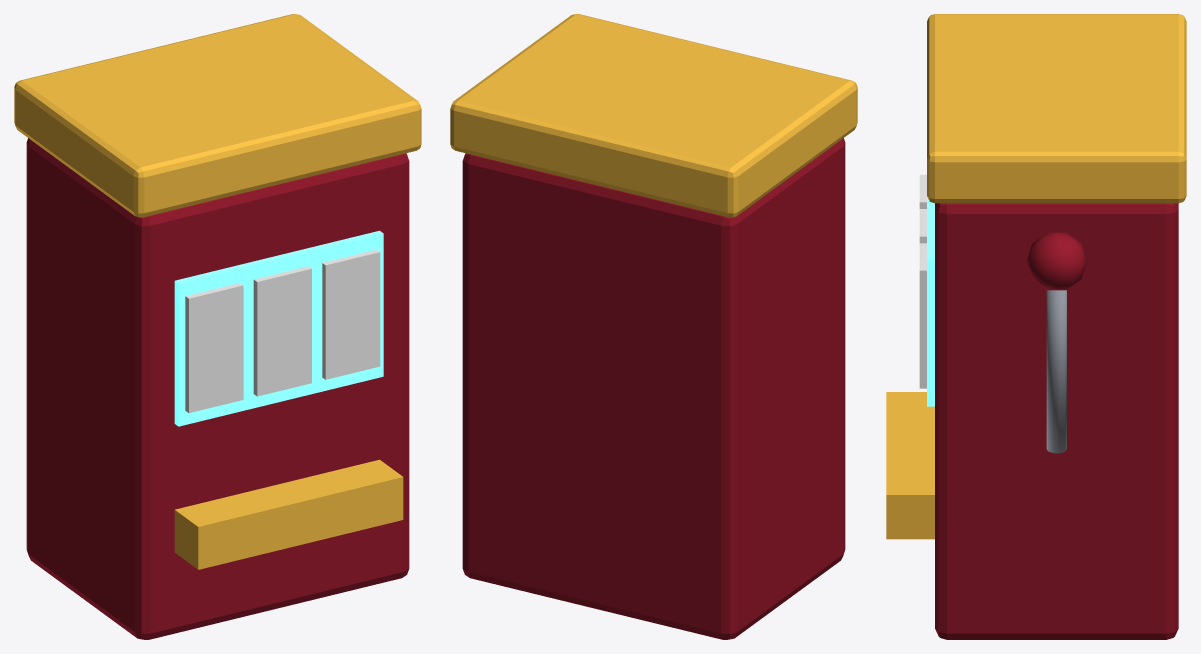
Rendered from SlotMachine.fbx.
3 views of the same model, side by side, from view 1: azimuth 30°, elevation 25°; view 2: azimuth 150°, elevation 25°; view 3: azimuth 270°, elevation 25° (orthographic). The views are drawn at different scales.
Parts seen in each view (by area): view 1: Red_Body, Gold_Top, Gold_Tray, Neon_Screen, White_Reel2, White_Reel0, White_Reel1; view 2: Red_Body, Gold_Top; view 3: Red_Body, Gold_Top, Gold_Tray, Steel_Lever, Red_Knob, Neon_Screen, White_Reel2.
Part boxes in pixels (left/top/right/bottom): Red_Body: left=26, top=138, right=409, bottom=639; Gold_Top: left=14, top=14, right=421, bottom=217; Gold_Tray: left=174, top=459, right=403, bottom=569; Neon_Screen: left=174, top=230, right=383, bottom=426; White_Reel2: left=322, top=249, right=380, bottom=379; White_Reel0: left=185, top=283, right=243, bottom=412; White_Reel1: left=253, top=266, right=311, bottom=396; Red_Body: left=462, top=138, right=845, bottom=639; Gold_Top: left=450, top=14, right=857, bottom=217; Red_Body: left=935, top=203, right=1178, bottom=639; Gold_Top: left=927, top=14, right=1186, bottom=203; Gold_Tray: left=886, top=392, right=934, bottom=539; Steel_Lever: left=1046, top=290, right=1066, bottom=453; Red_Knob: left=1026, top=232, right=1086, bottom=290; Neon_Screen: left=927, top=196, right=934, bottom=406; White_Reel2: left=919, top=243, right=926, bottom=388.
Bounding box in the file's own units: 9.31 × 13.4 × 7.4.
